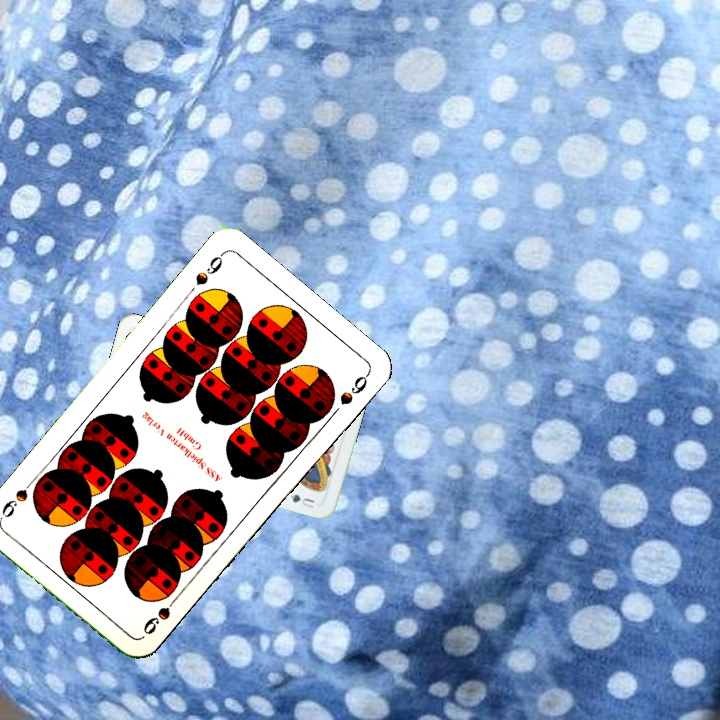S9: (139, 589, 183, 638), (191, 248, 227, 288)
